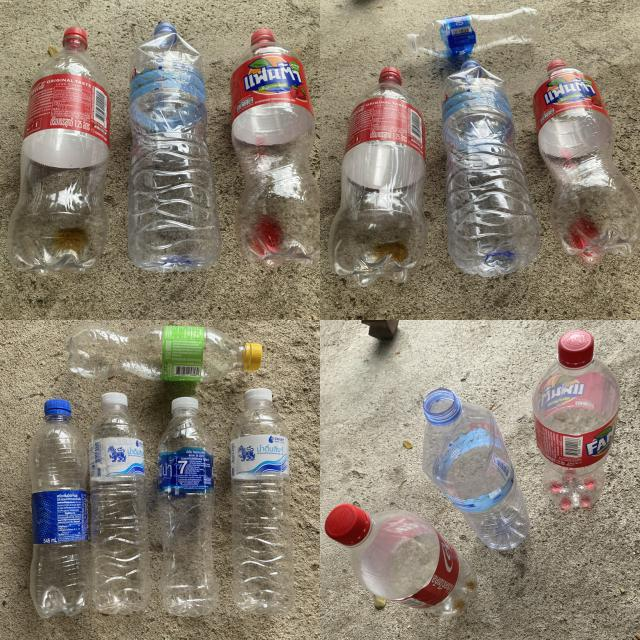plastik: (8, 28, 110, 274), (128, 22, 221, 272), (534, 60, 640, 264), (329, 68, 428, 286), (231, 30, 320, 268), (442, 60, 540, 276), (422, 389, 530, 550), (325, 504, 476, 616), (532, 330, 620, 510), (230, 389, 294, 614), (89, 392, 151, 613), (29, 399, 91, 619), (158, 398, 218, 616), (65, 324, 262, 382), (408, 8, 539, 56)
